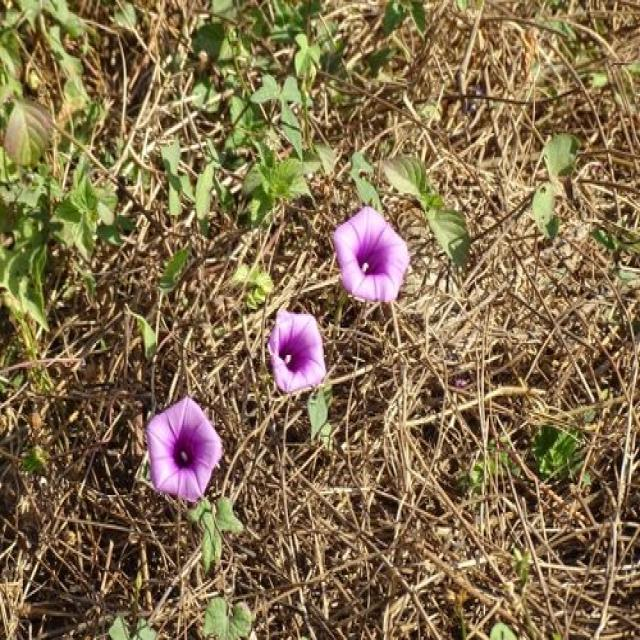ipomoea: (141, 394, 225, 507), (329, 203, 412, 309), (264, 304, 329, 399)
